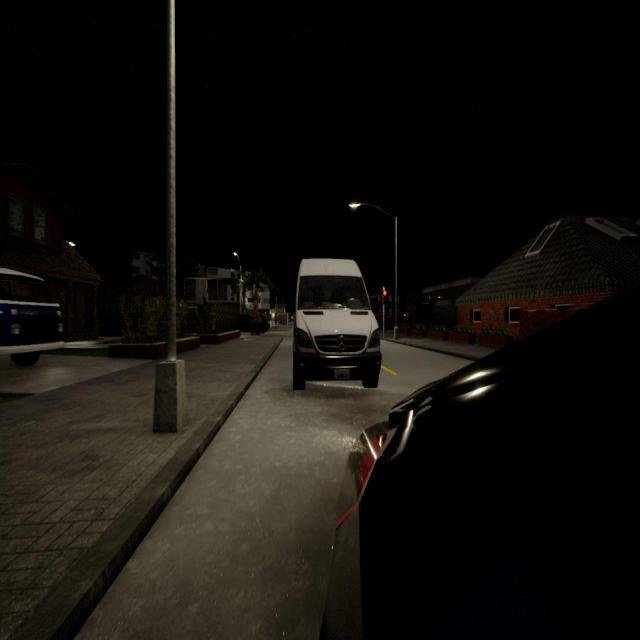Vehicle: (320, 288, 639, 640), (292, 259, 381, 391), (0, 269, 59, 371)
traffic_light: (382, 290, 387, 305)
